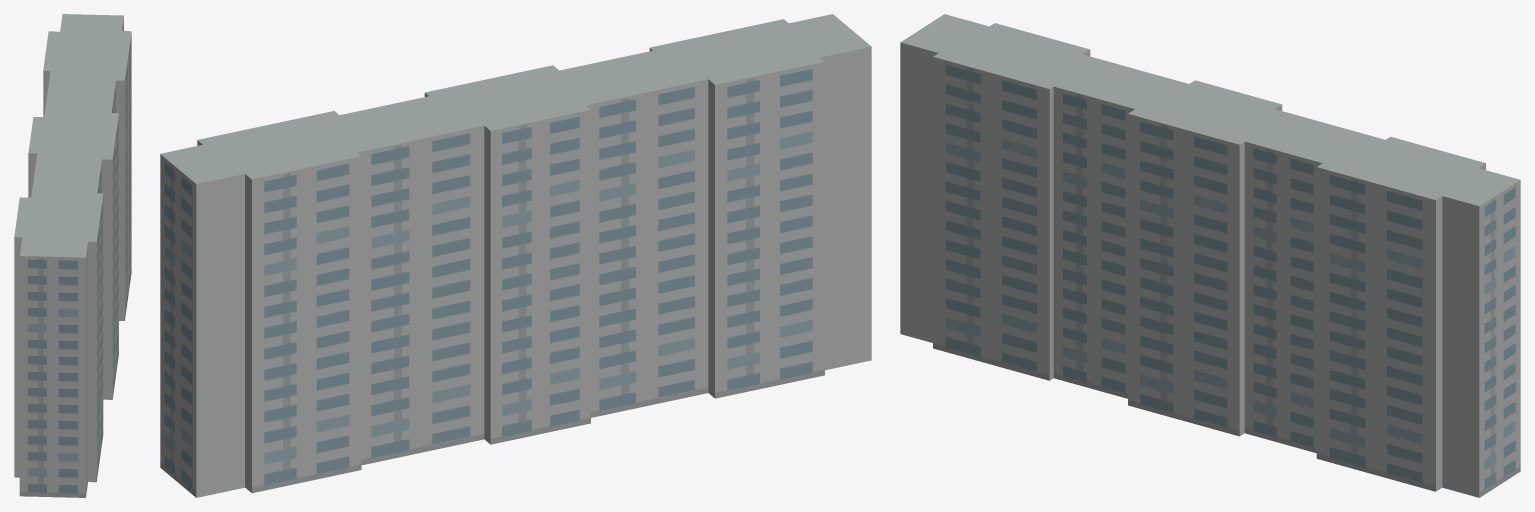
Rendered from residential-5c0aaa8b-b0ce-477f-acf6-ae7ff6dc7df5.glb.
3 views of the same model, side by side, from view 1: azimuth 30°, elevation 25°; view 2: azimuth 150°, elevation 25°; view 3: azimuth 270°, elevation 25° (orthographic). The views are drawn at different scales.
Parts seen in each view (by area): view 1: residential-5c0aaa8b-b0ce-477f-acf6-ae7ff6dc7df5.tmp; view 2: residential-5c0aaa8b-b0ce-477f-acf6-ae7ff6dc7df5.tmp; view 3: residential-5c0aaa8b-b0ce-477f-acf6-ae7ff6dc7df5.tmp.
Part boxes in pixels (<box>): residential-5c0aaa8b-b0ce-477f-acf6-ae7ff6dc7df5.tmp: <box>14,14,131,497</box>; residential-5c0aaa8b-b0ce-477f-acf6-ae7ff6dc7df5.tmp: <box>160,14,871,497</box>; residential-5c0aaa8b-b0ce-477f-acf6-ae7ff6dc7df5.tmp: <box>900,14,1520,497</box>.
Bounding box in the file's own units: 64.68 × 45.75 × 88.16.
